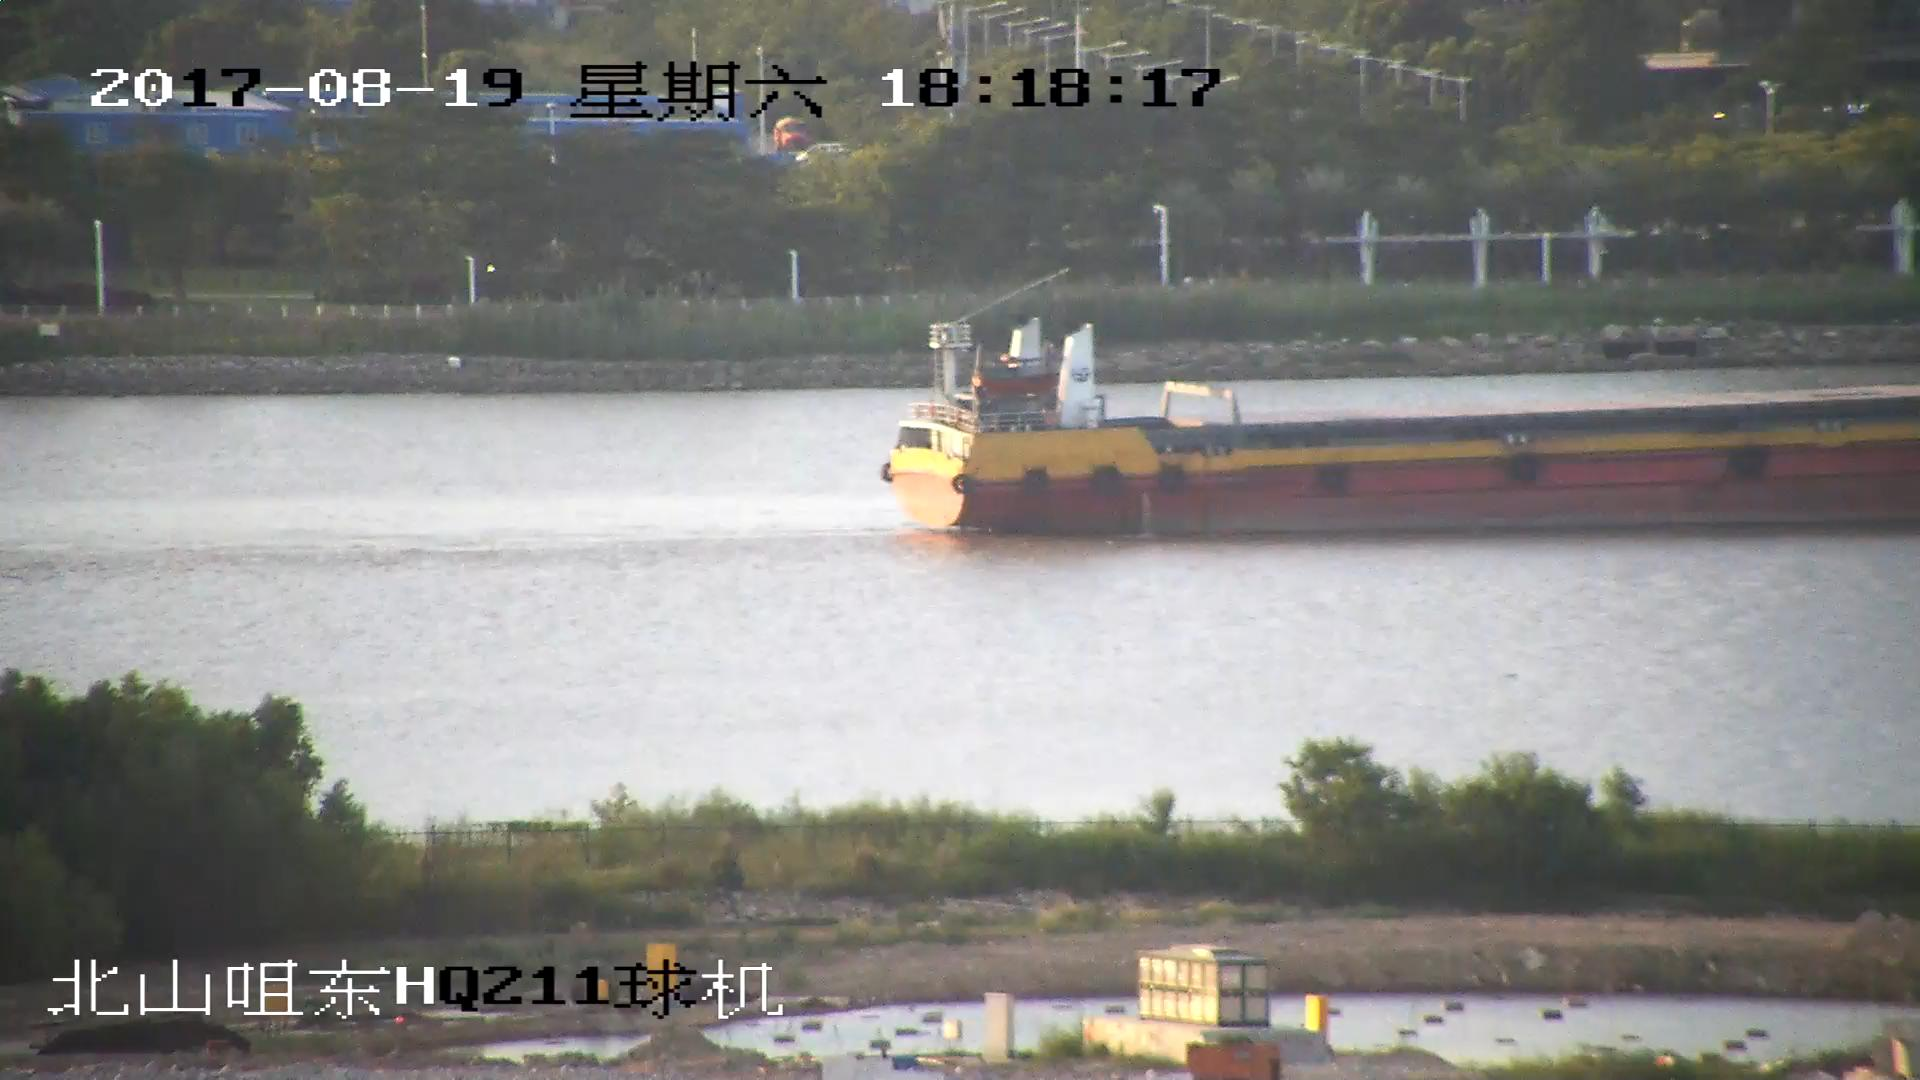general cargo ship: (881, 319, 1920, 542)
